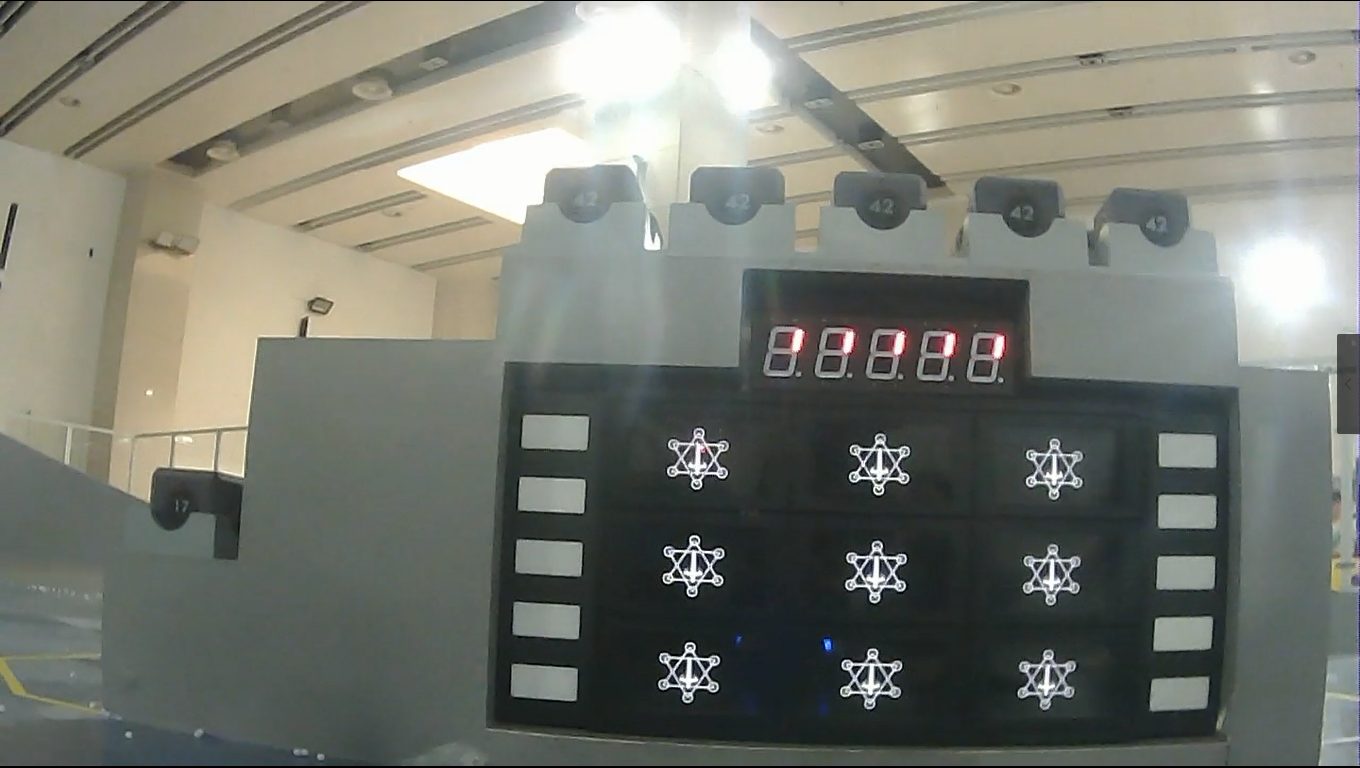box: (541, 162, 655, 238), (1085, 185, 1201, 256), (968, 176, 1071, 255), (686, 159, 798, 231), (828, 172, 933, 232)
